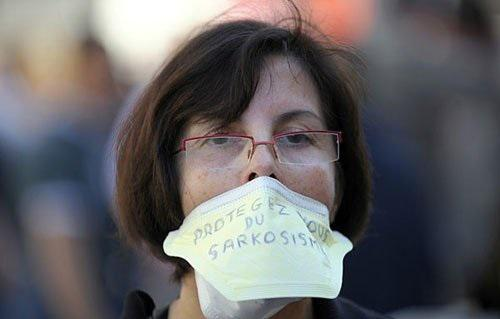WRONG: (173, 103, 337, 271)
